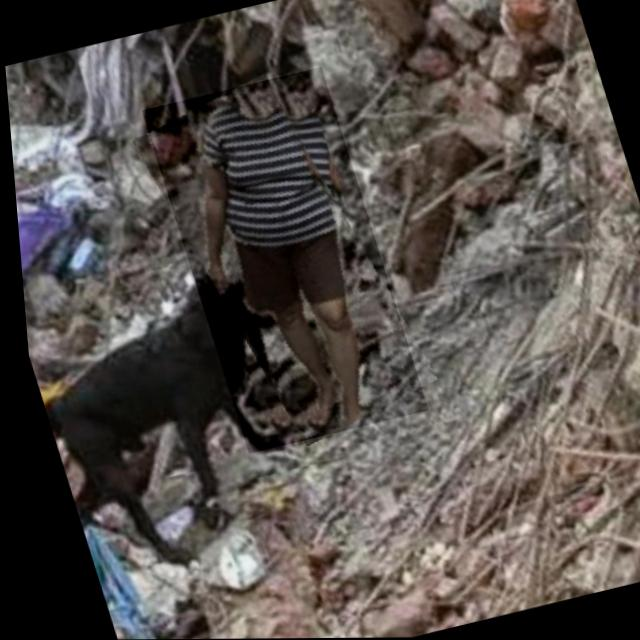Person in Rubble: (136, 66, 424, 454)
